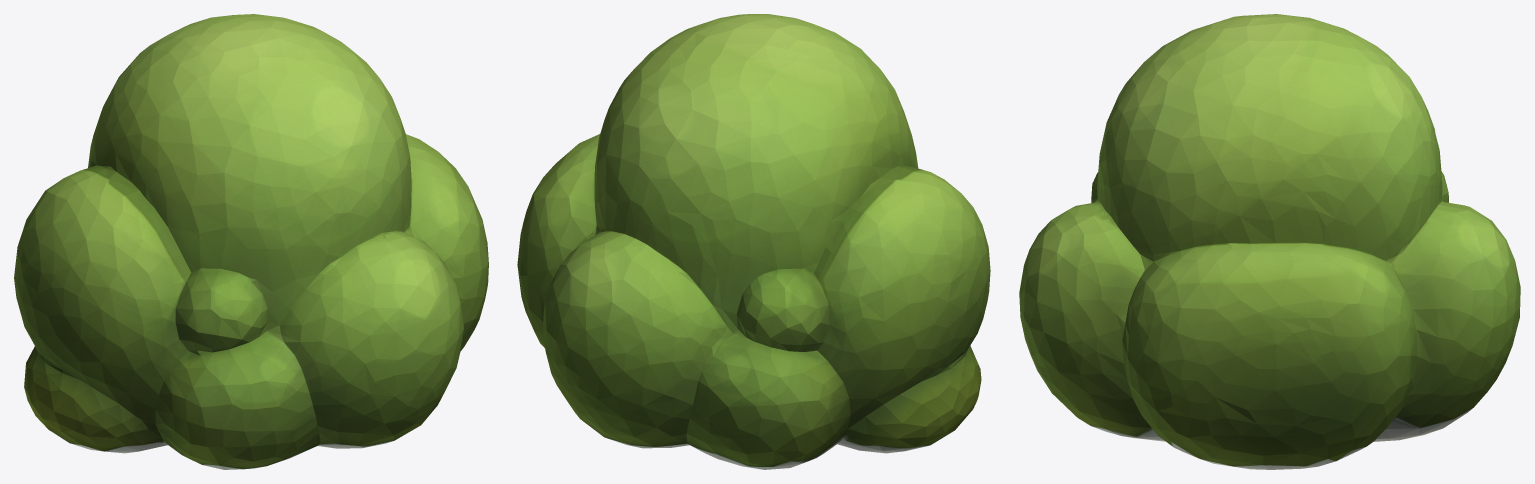
Rendered from bush_1.glb.
3 views of the same model, side by side, from view 1: azimuth 30°, elevation 25°; view 2: azimuth 150°, elevation 25°; view 3: azimuth 270°, elevation 25° (orthographic). The views are drawn at different scales.
Visible parts, largest first — view 1: tmpdjudn549.ply; view 2: tmpdjudn549.ply; view 3: tmpdjudn549.ply.
Part boxes in pixels (<box>): tmpdjudn549.ply: <box>14,14,488,469</box>; tmpdjudn549.ply: <box>517,14,990,469</box>; tmpdjudn549.ply: <box>1019,14,1520,469</box>.
Bounding box in the file's own units: 1.95 × 1.62 × 1.96.
Materials: 1 (1 with a texture image).
